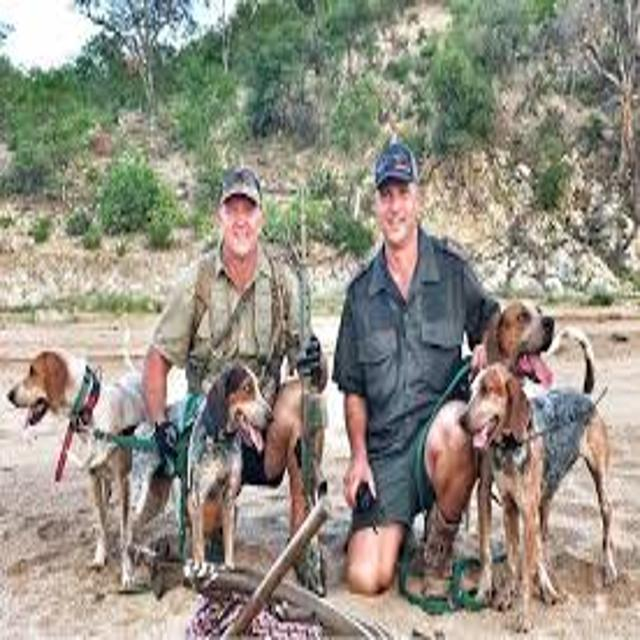dog: (409, 321, 640, 624), (433, 281, 590, 613), (1, 338, 182, 607), (129, 349, 295, 612)
poacher: (277, 126, 573, 613), (92, 145, 367, 614)
